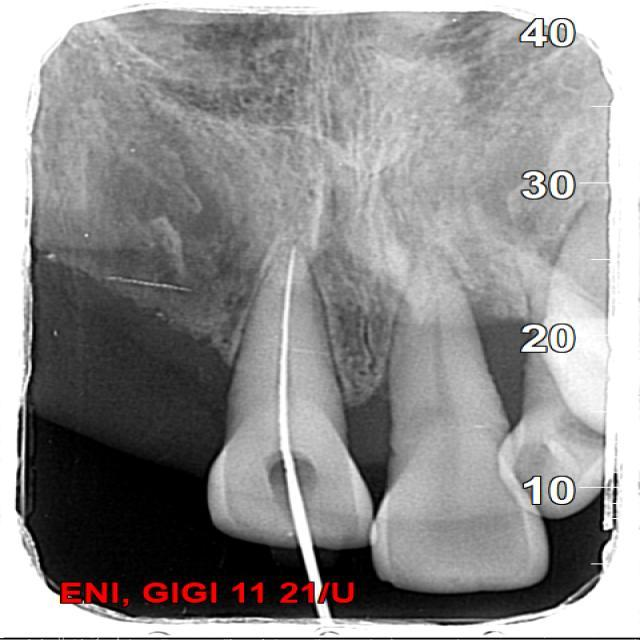individual-tooth-8tto: (379, 242, 553, 591), (204, 246, 379, 551)
